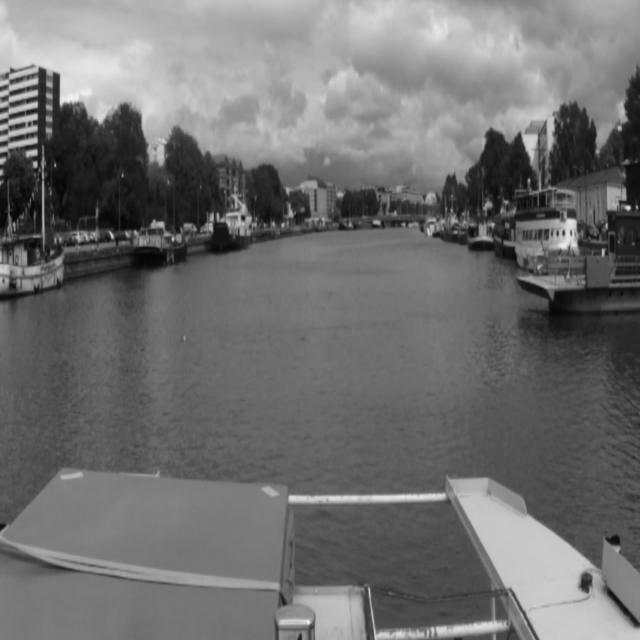ship: (0, 136, 66, 294), (544, 254, 636, 307), (516, 188, 578, 264), (212, 196, 253, 248), (132, 224, 187, 262), (494, 215, 516, 261), (466, 219, 492, 249)
